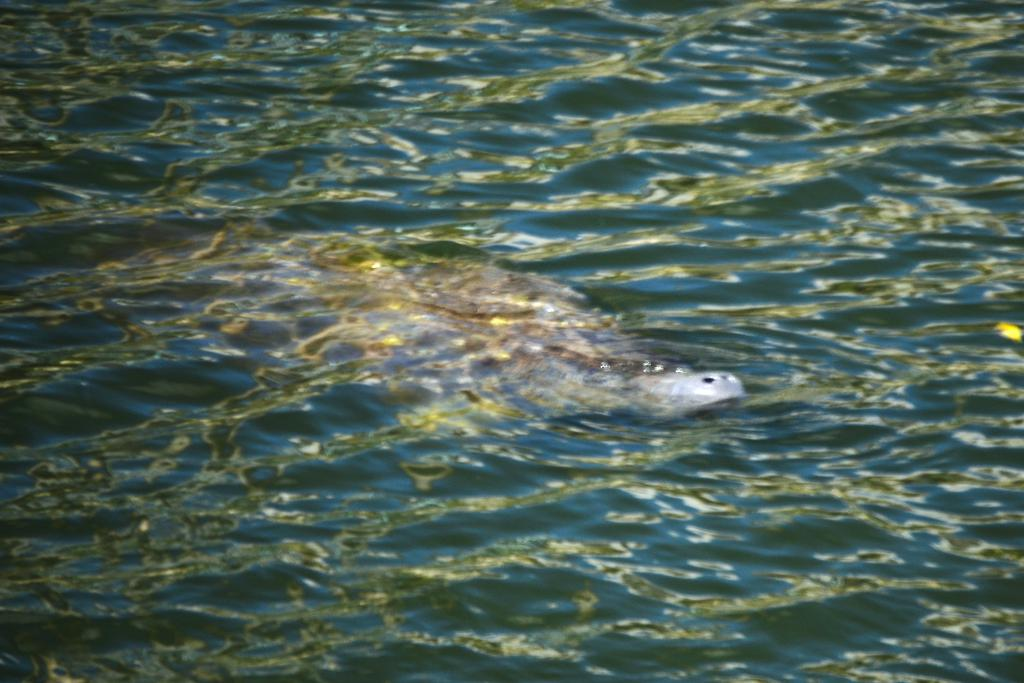Sea turtles: (360, 256, 743, 419)
